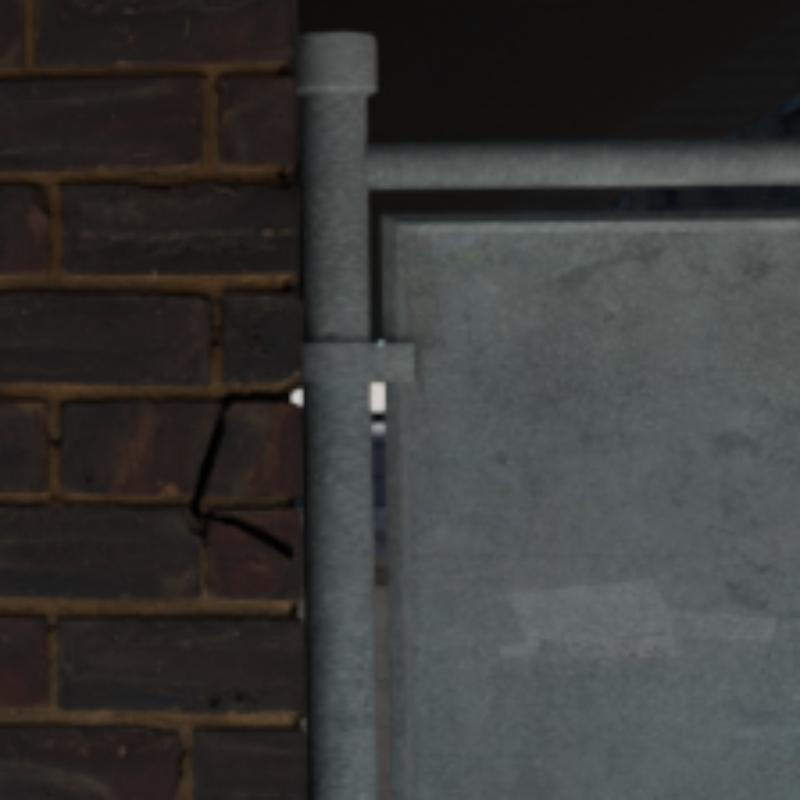pothole: (189, 389, 289, 557)
